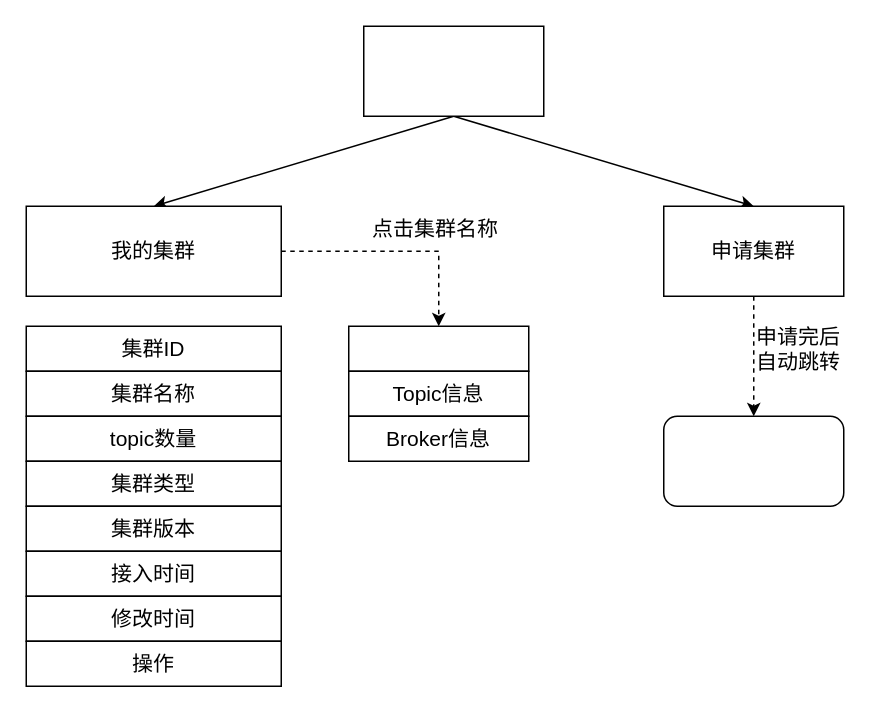
This 870x713 diagram has some shape labels left out. Here are the shapes that lost their labels. From the top down, the centre of each, then its label:
At (453,70): "集群管理".
At (438,348): "集群概览".
At (753,460): "角色请求的申请与审批模块".
